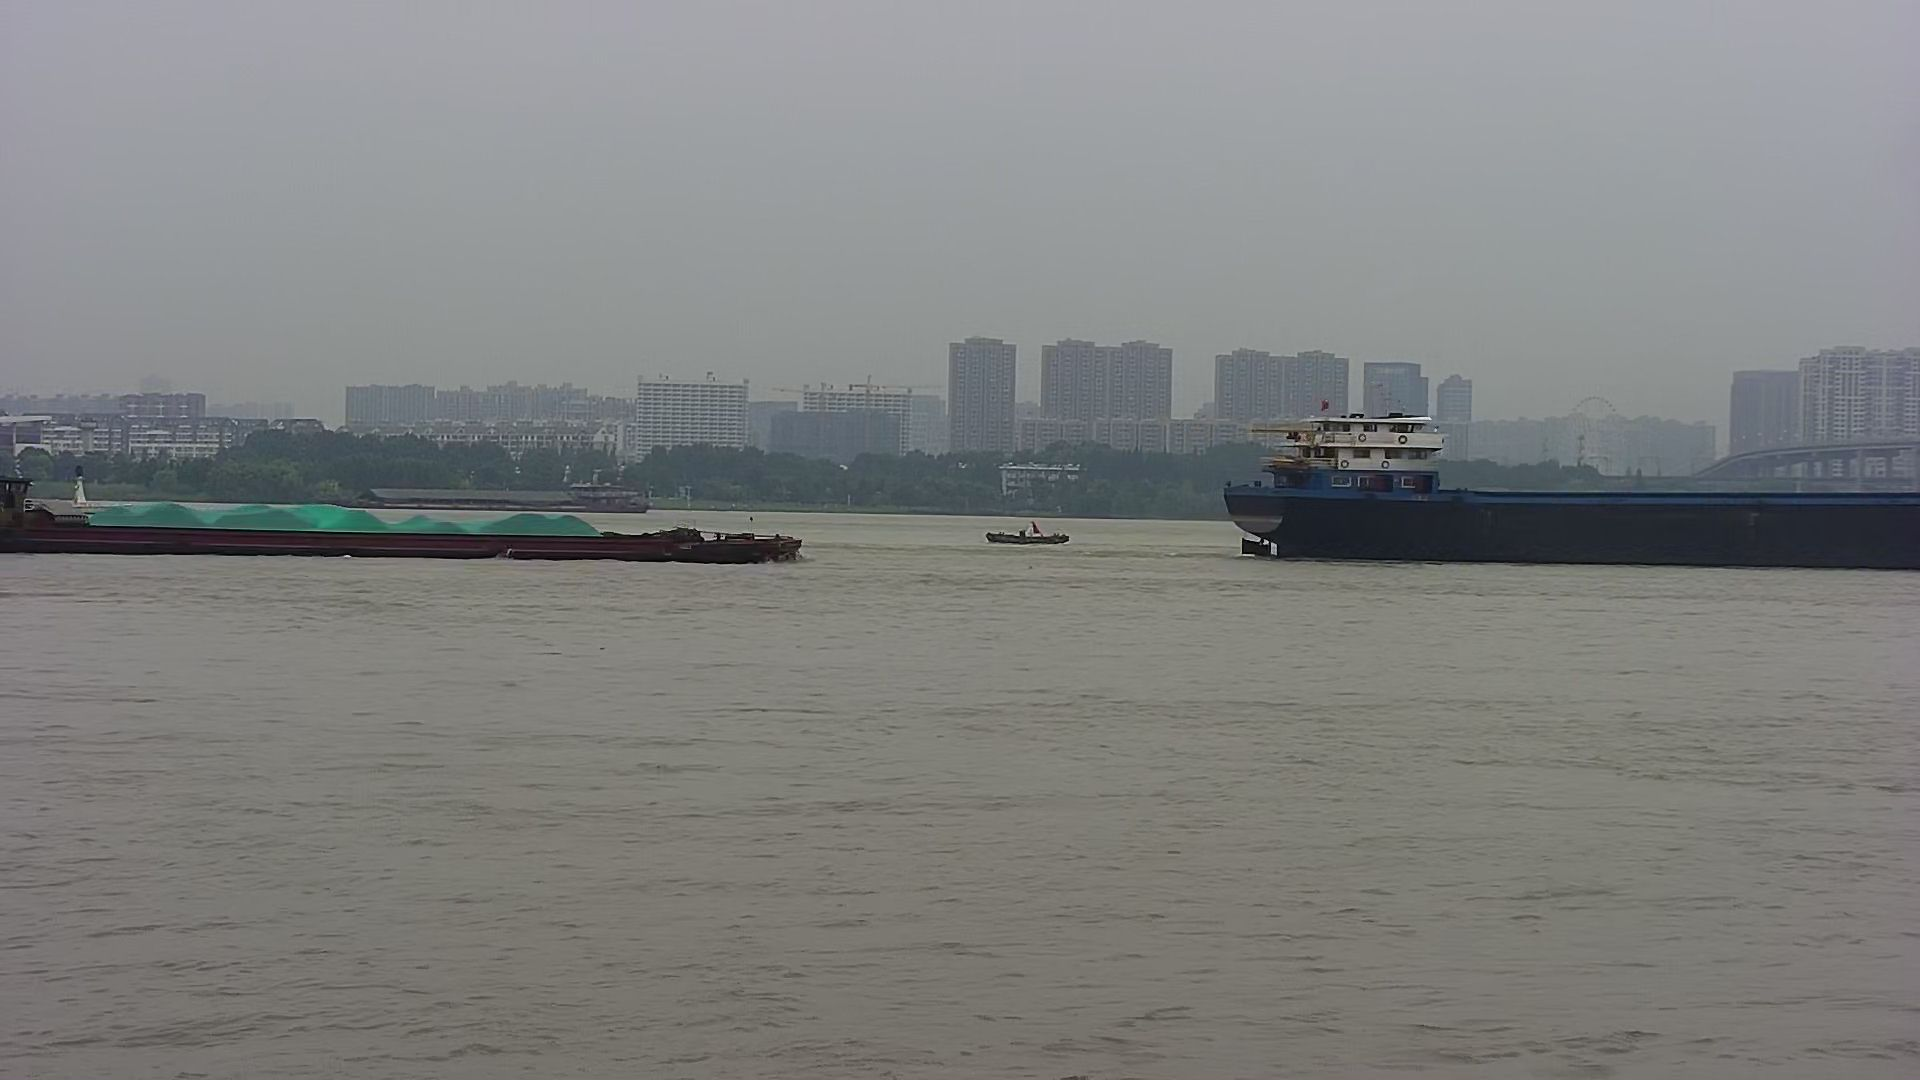boat: (972, 514, 1077, 553)
ship: (1218, 393, 1920, 580), (1, 458, 825, 574), (353, 469, 665, 518)
